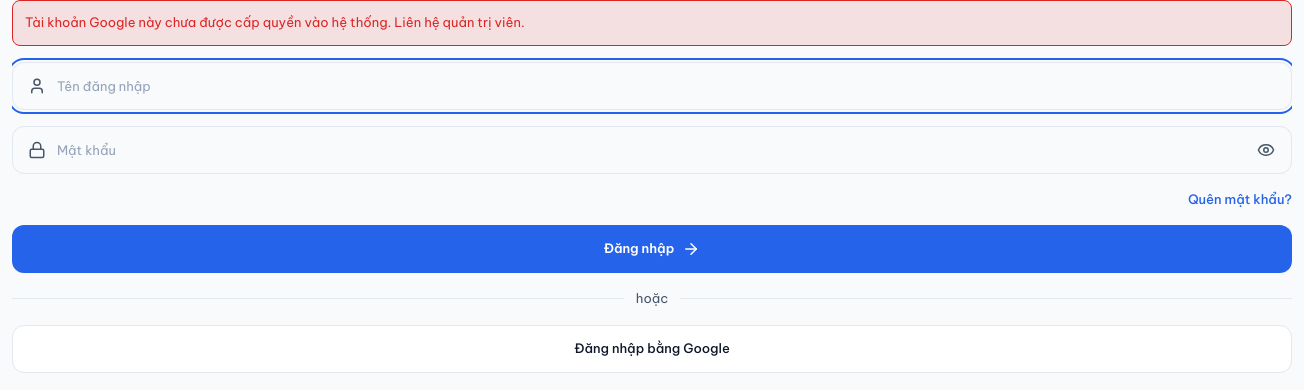
Test: LoginForm — lỗi ?error= trên URL › gửi form mật khẩu → xoá thông báo lỗi Google cũ
The image size is (1304, 390).
Type "nam" into the field labelled "Tên đăng nhập" at x=652, y=86, box [12, 62, 1292, 110]
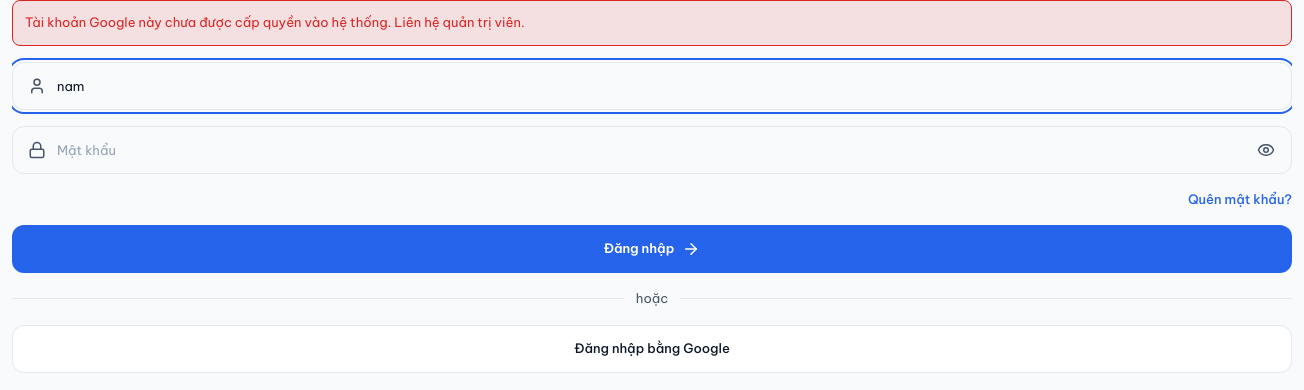
Type "Sai12345" into the password field labelled "Mật khẩu" at x=652, y=150, box [12, 126, 1292, 174]
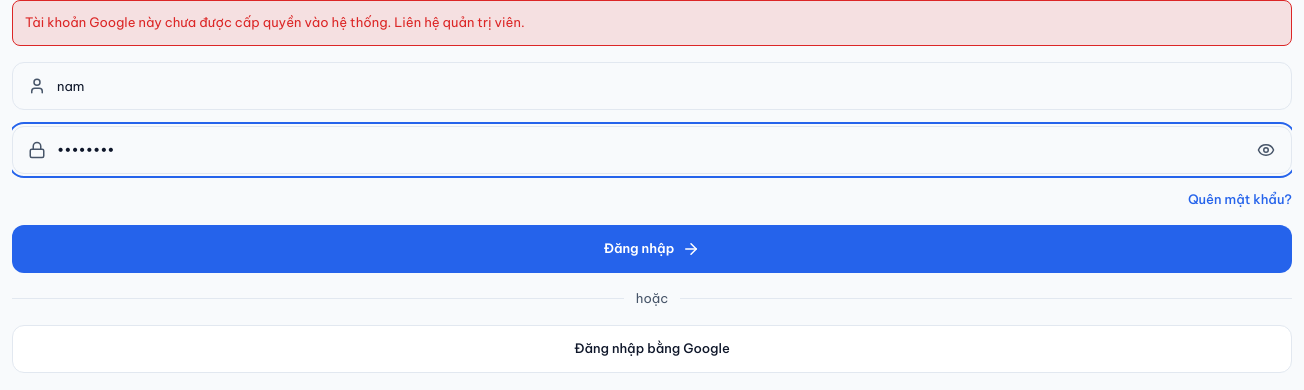
Click the button "Đăng nhập" at x=652, y=249, box [12, 225, 1292, 273]
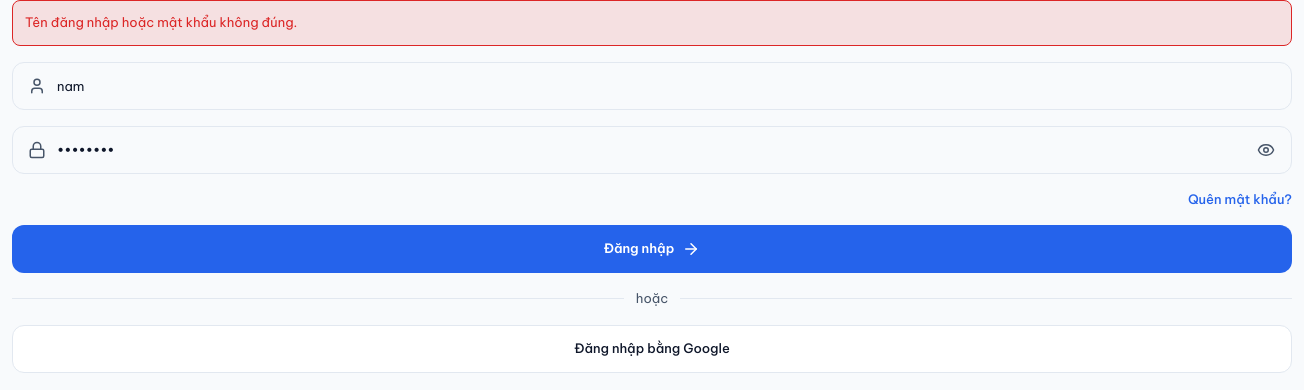
Result: the message reads "Tên đăng nhập hoặc mật khẩu không đúng." at [25, 14, 297, 30]
